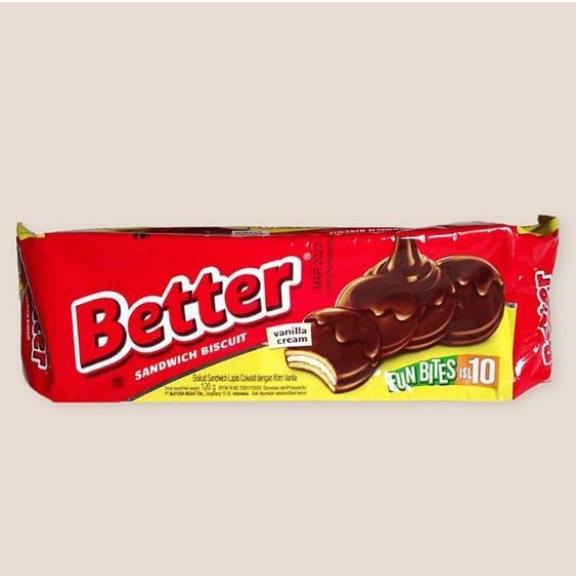Plastik: (17, 215, 560, 402)
